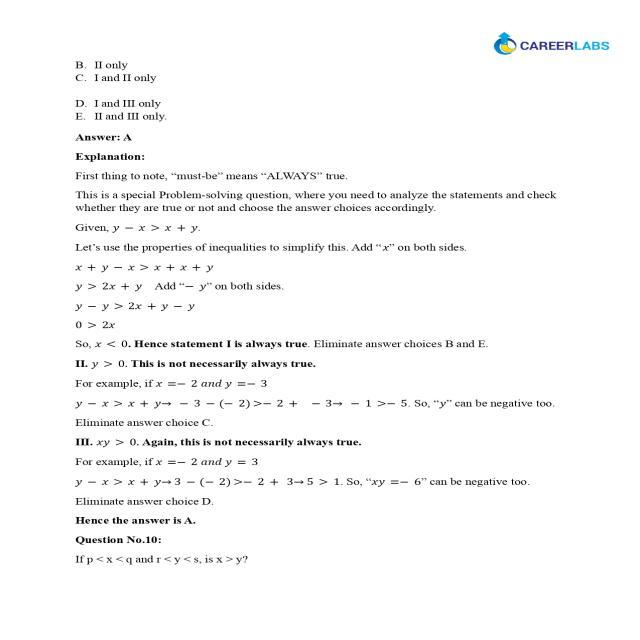Answer_Block: (51, 58, 594, 124)
Description: (51, 124, 594, 528)
Question_Answer_Block: (51, 58, 594, 124), (51, 529, 594, 576)
Question_Block: (51, 529, 594, 576)
Question_Paper_Area: (51, 57, 594, 575)
